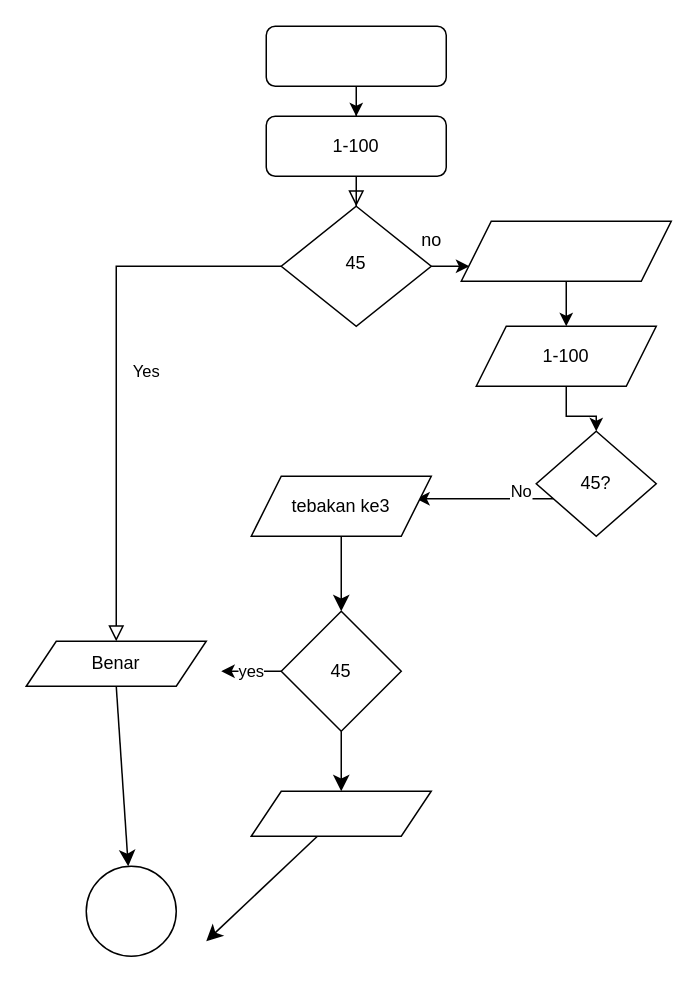
Image size: 698x983. Some labels were removed from this diagram. The shapes that lost their labels are listed below. From the top down, each one's centre as x and y in pixels, then its label:
the point at 355,55: Game tebak angka
the point at 565,250: kesempatan kedua
the point at 340,813: Tebakan habis
the point at 130,910: end
